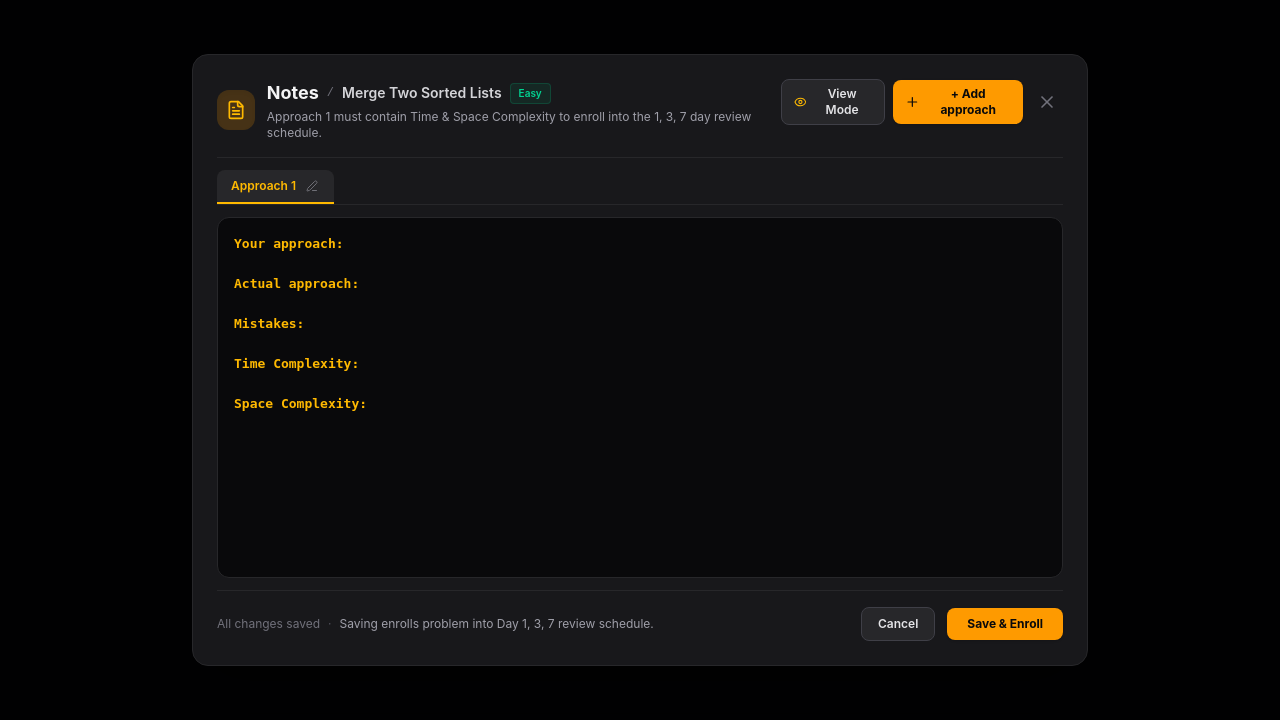
Test: Phase 6 & 7 Frontend Components › Phase 7 Notes Component (NoteModal) › Given INBOX problem with missing complexity, When user attempts to Save, Then client inline error is displayed
// The default template has unfilled complexity
Step 1. Click the button "Save & Enroll" → (1005, 624), box [947, 608, 1063, 640]
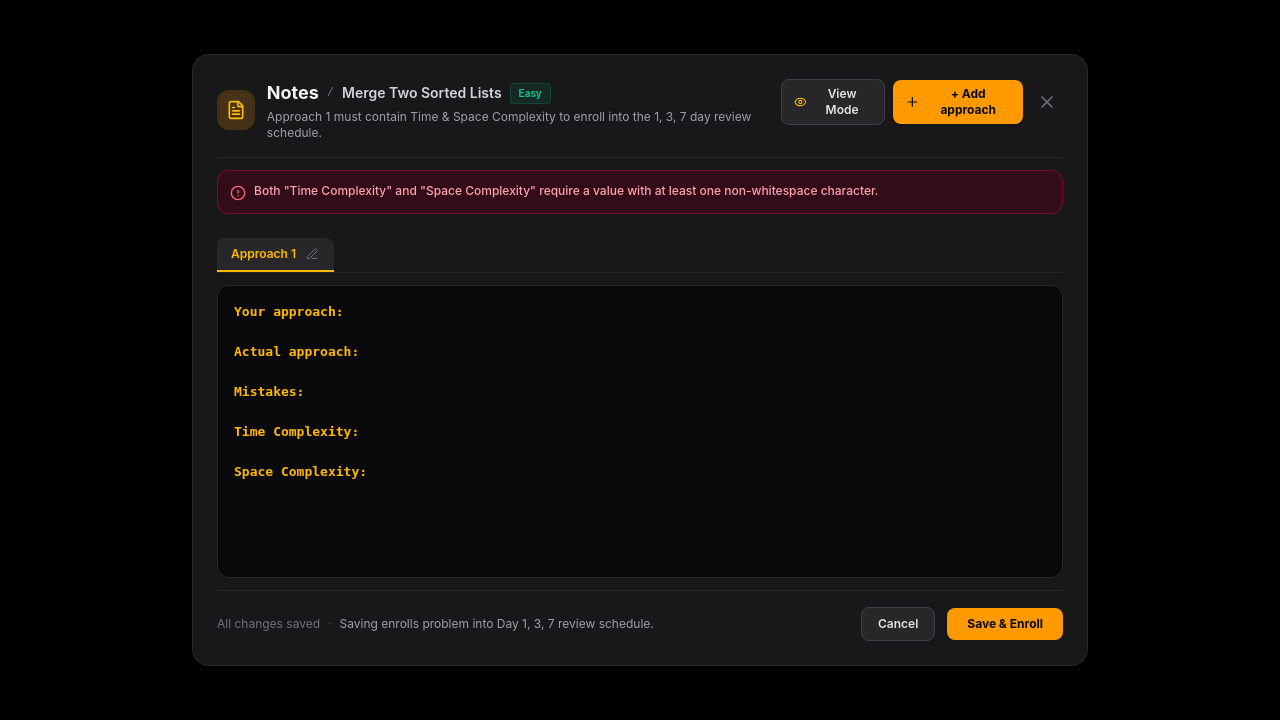
Now the text "require a value with at least one non-whitespace character" is shown, box [254, 183, 878, 198]
